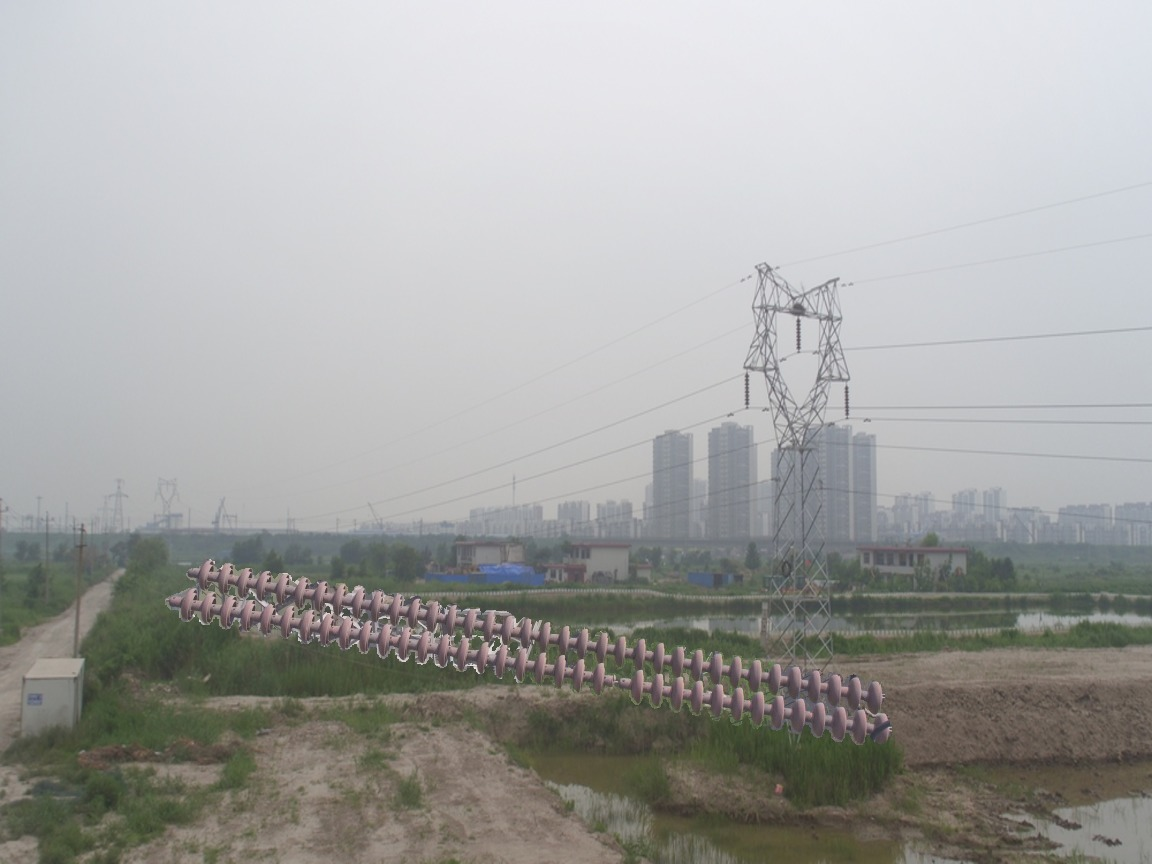defect: (584, 662, 652, 708)
